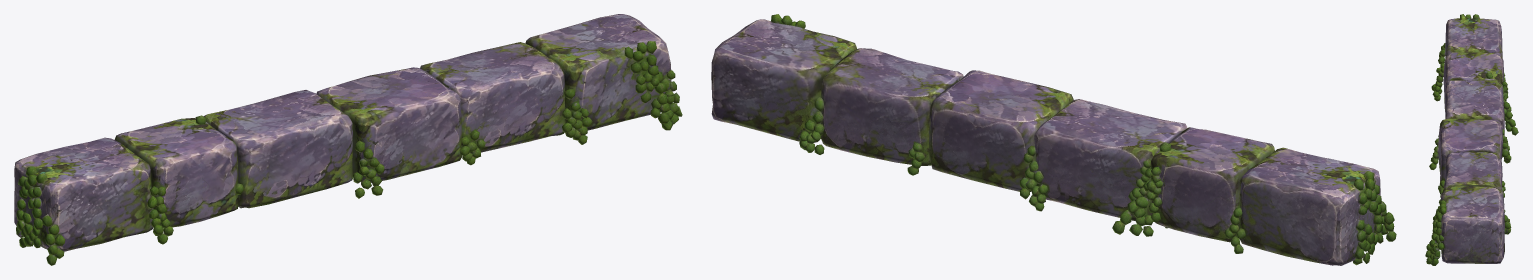
Rendered from parapet-v2.glb.
3 views of the same model, side by side, from view 1: azimuth 30°, elevation 25°; view 2: azimuth 150°, elevation 25°; view 3: azimuth 270°, elevation 25° (orthographic). The views are drawn at different scales.
Size of the model in its own units: 1 by 0.1308 by 0.1949.
Materials: 1 (1 with a texture image).
